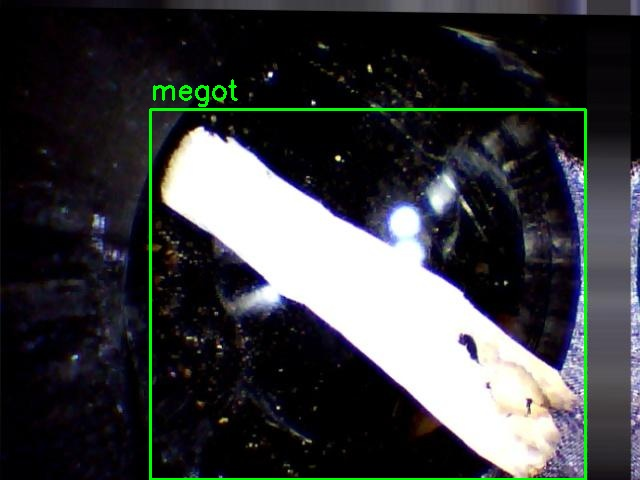megot: (150, 109, 585, 479)
